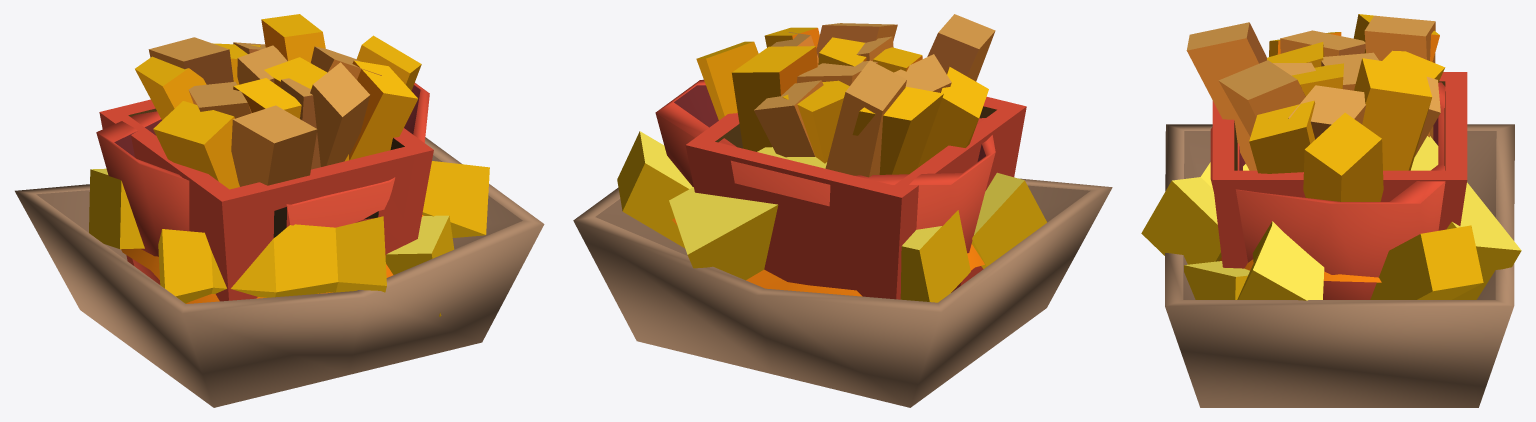
File: Potato1.fbx
The picture shows the model from 3 angles, left to right: view 1: azimuth 30°, elevation 25°; view 2: azimuth 150°, elevation 25°; view 3: azimuth 270°, elevation 25°; orthographic projection. The views are drawn at different scales.
Visible parts, largest first — view 1: 04_goods_item_1, 04_goods_item_2, 04_goods_item; view 2: 04_goods_item_1, 04_goods_item_2, 04_goods_item; view 3: 04_goods_item_1, 04_goods_item, 04_goods_item_2.
Boxes of the visible parts, <box> form: 04_goods_item_1: <box>15,137,544,407</box>; 04_goods_item_2: <box>99,37,433,301</box>; 04_goods_item: <box>96,14,429,284</box>; 04_goods_item_1: <box>573,131,1112,407</box>; 04_goods_item_2: <box>685,14,1026,299</box>; 04_goods_item: <box>655,27,995,292</box>; 04_goods_item_1: <box>1141,124,1521,407</box>; 04_goods_item: <box>1210,14,1445,299</box>; 04_goods_item_2: <box>1186,15,1467,268</box>.
Bounding box in the file's own units: 61.07 × 45.97 × 53.46.
1 material, 1 textured.
